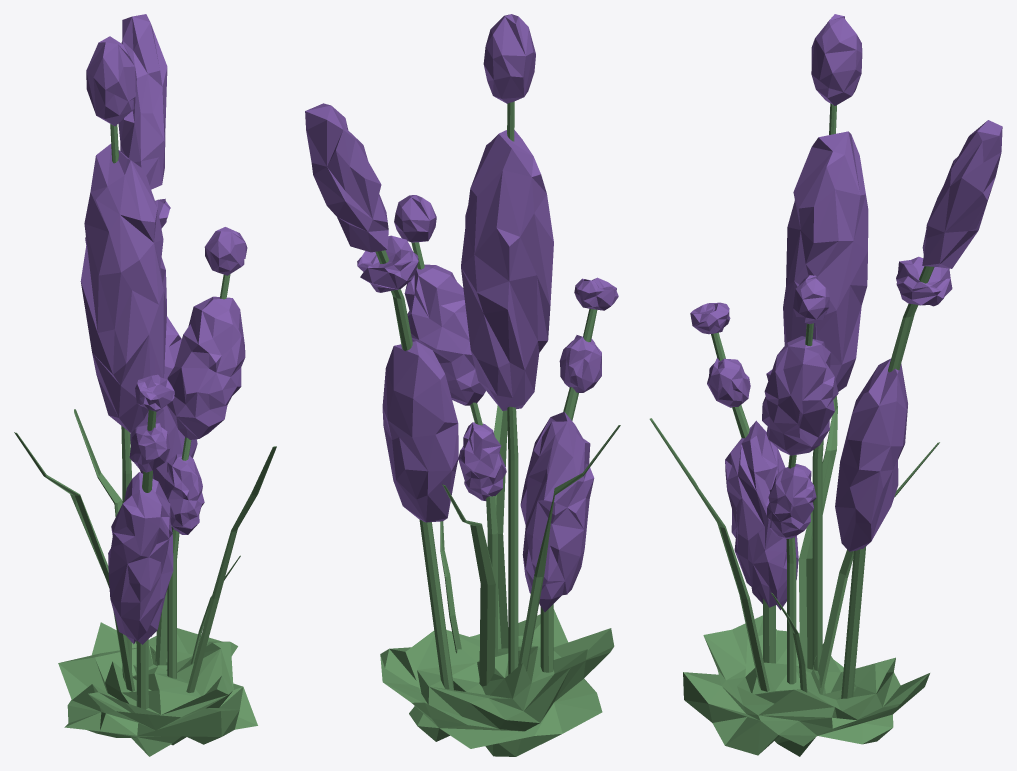
File: Lavender.fbx
The picture shows the model from 3 angles, left to right: view 1: azimuth 30°, elevation 25°; view 2: azimuth 150°, elevation 25°; view 3: azimuth 270°, elevation 25°; orthographic projection. The views are drawn at different scales.
Visible parts, largest first — view 1: pSphere9; view 2: pSphere9; view 3: pSphere9.
Boxes of the visible parts, x1=… form: pSphere9: x1=14, y1=14, x2=276, y2=756; pSphere9: x1=305, y1=14, x2=620, y2=756; pSphere9: x1=649, y1=14, x2=1002, y2=756.
Size of the model in its own units: 18.91 by 56.35 by 25.09.
